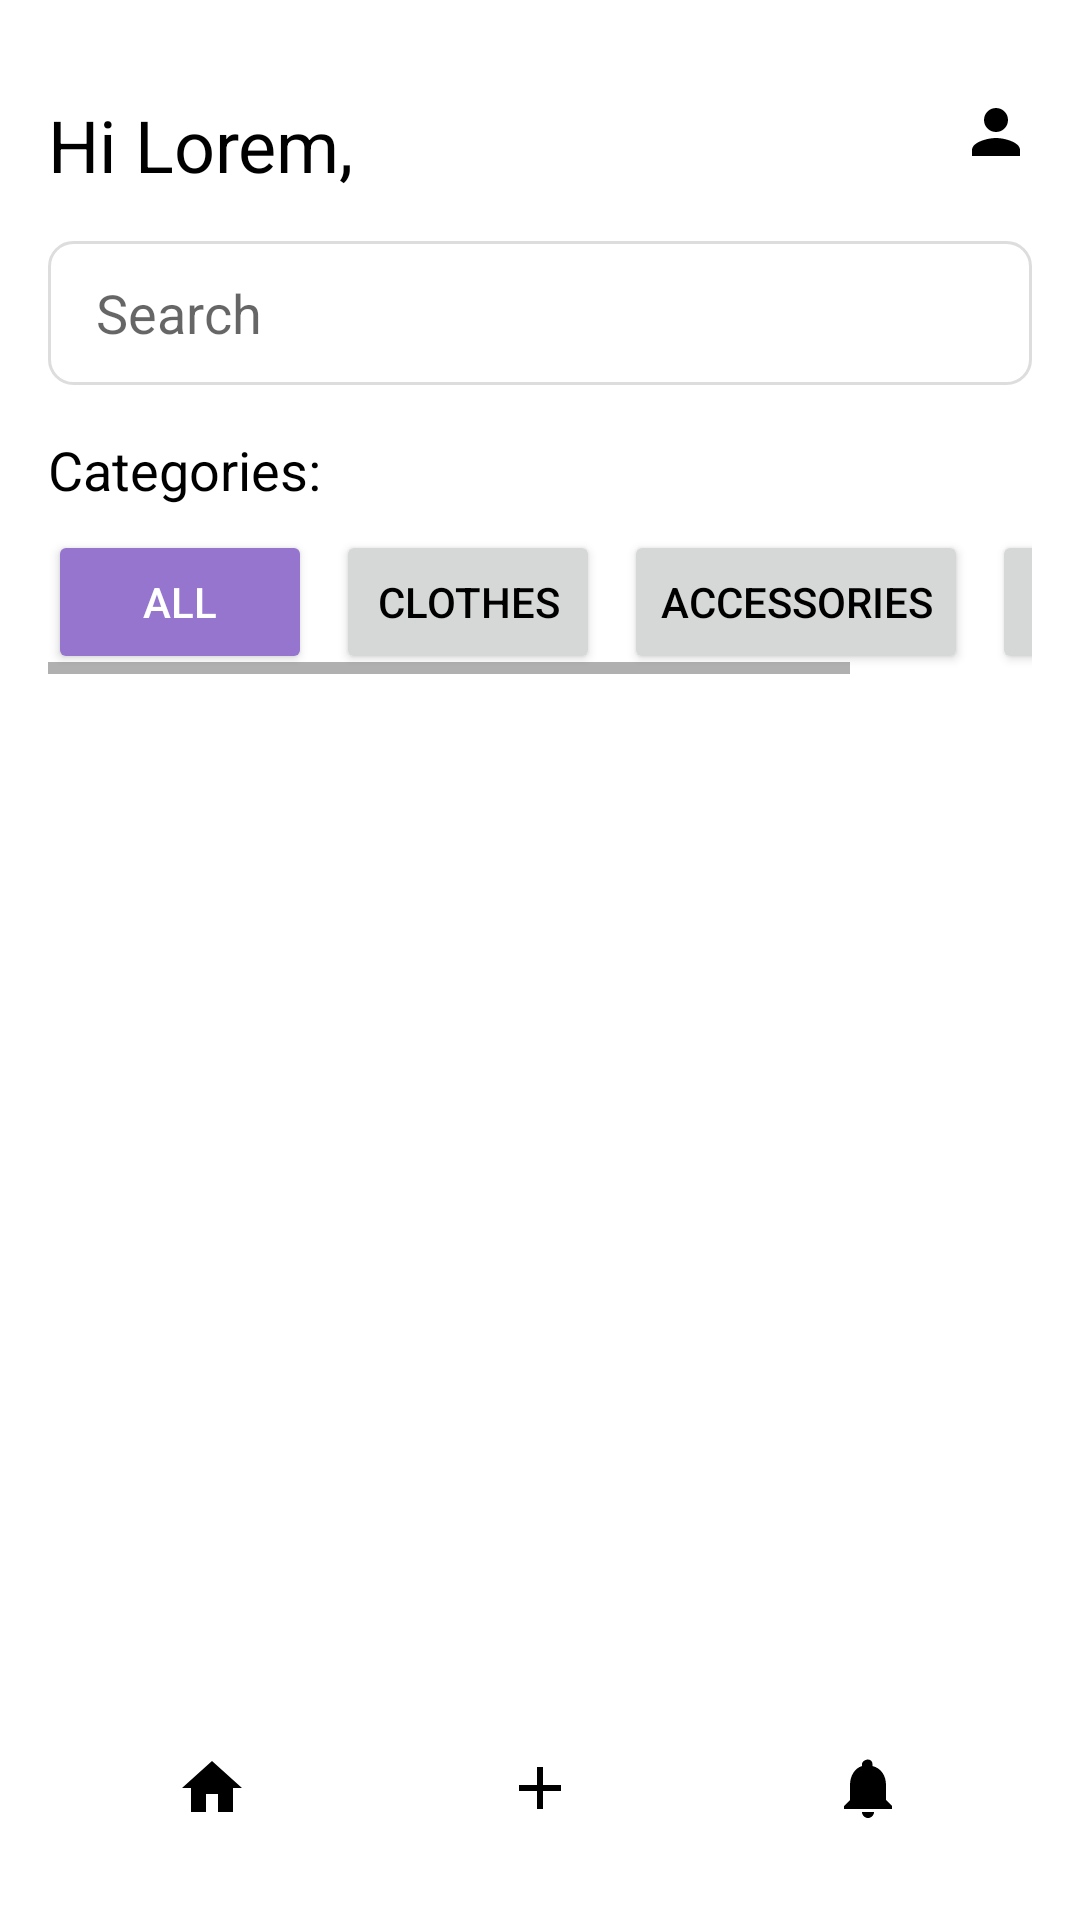

Where to tap for icons on this 1080w x 1920h app screen, as (x=x, y=y):
Add Icon: (x=540, y=1788)
Home Icon: (x=212, y=1786)
Notifications Icon: (x=868, y=1788)
